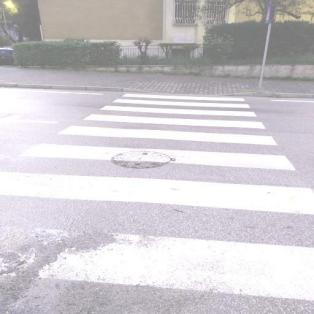Paso de Cebra: (16, 124, 299, 176), (104, 91, 258, 110)
